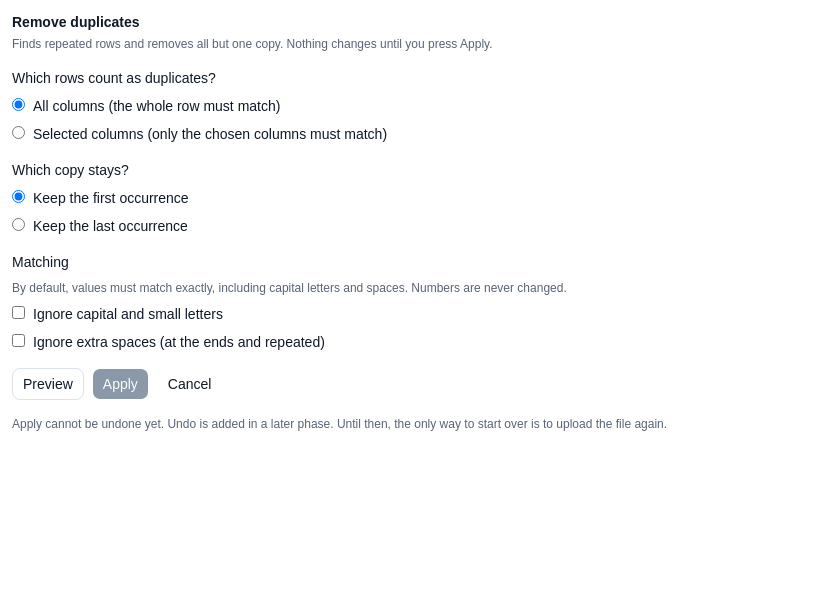
DuplicatesPanel: preview › cannot apply a preview that would remove nothing
Step 1. Click the button "Preview" → {"x": 48, "y": 384}, box [12,368,84,400]
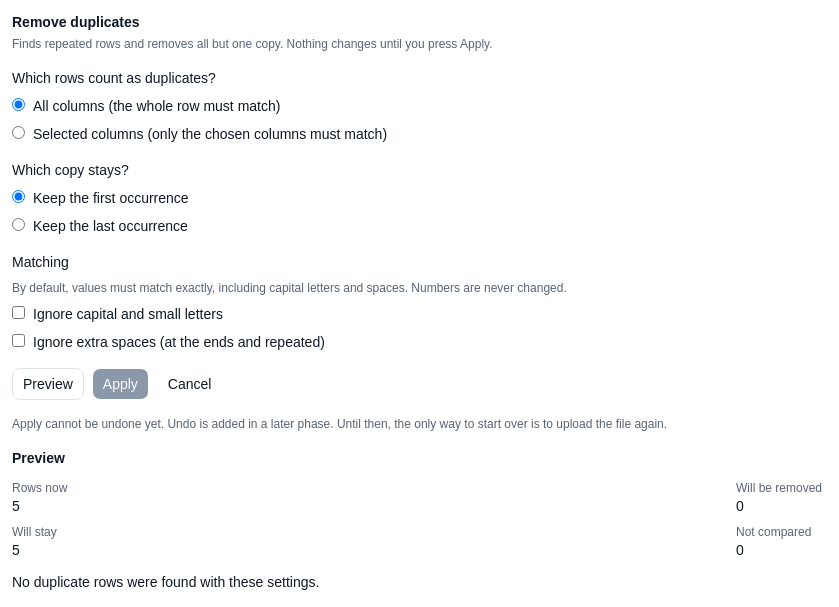
Expected: the button "Apply" is disabled, [92,368,149,400]
Expected: the element "Preview" is shown, [12,450,822,590]
Expected: the text "No duplicate rows were found with these settings." is shown, [12,574,319,590]
